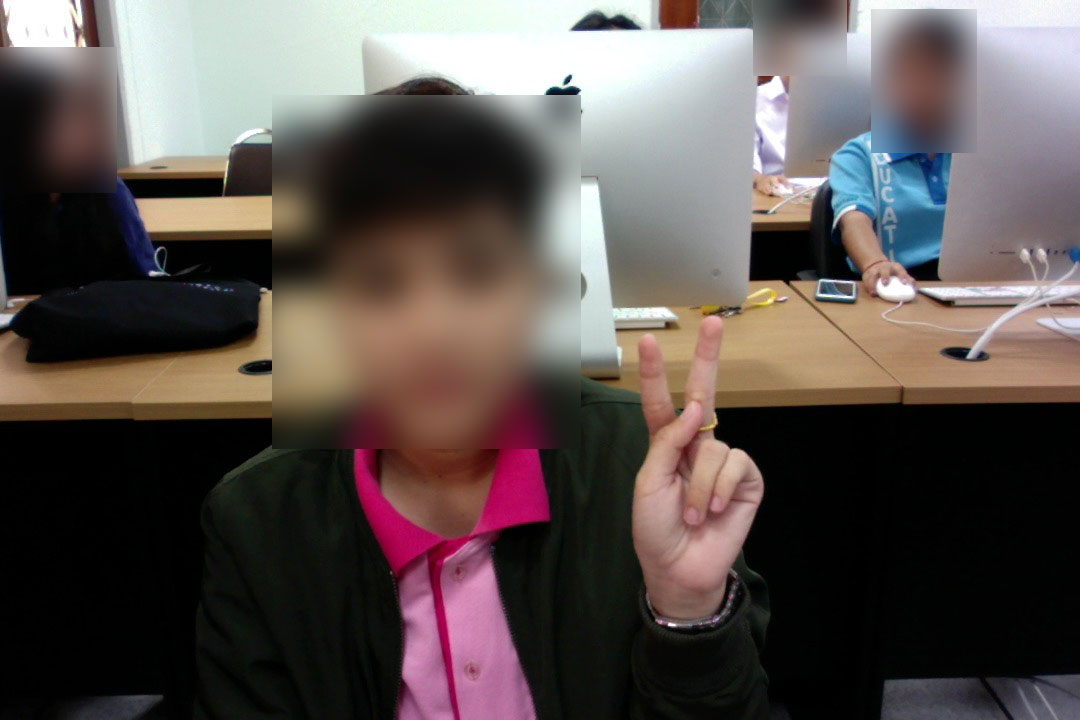ko: (611, 309, 778, 618)
